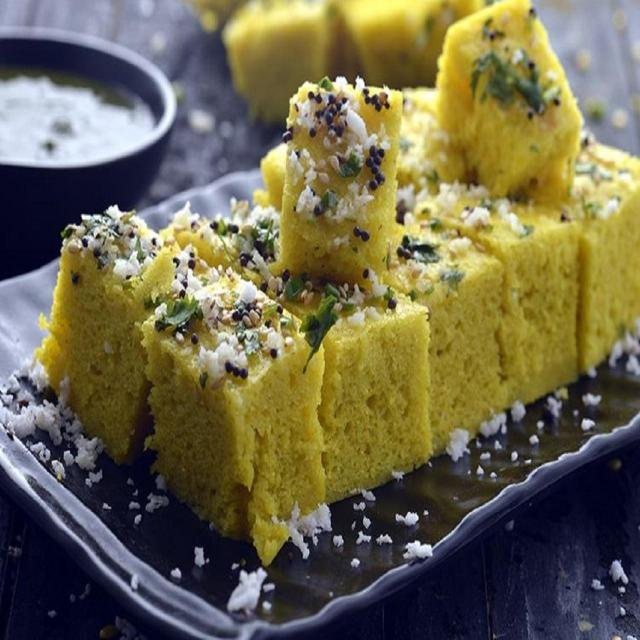dhokla: (23, 197, 342, 587), (246, 32, 428, 323), (325, 245, 547, 470), (422, 0, 600, 222), (519, 190, 640, 382)
